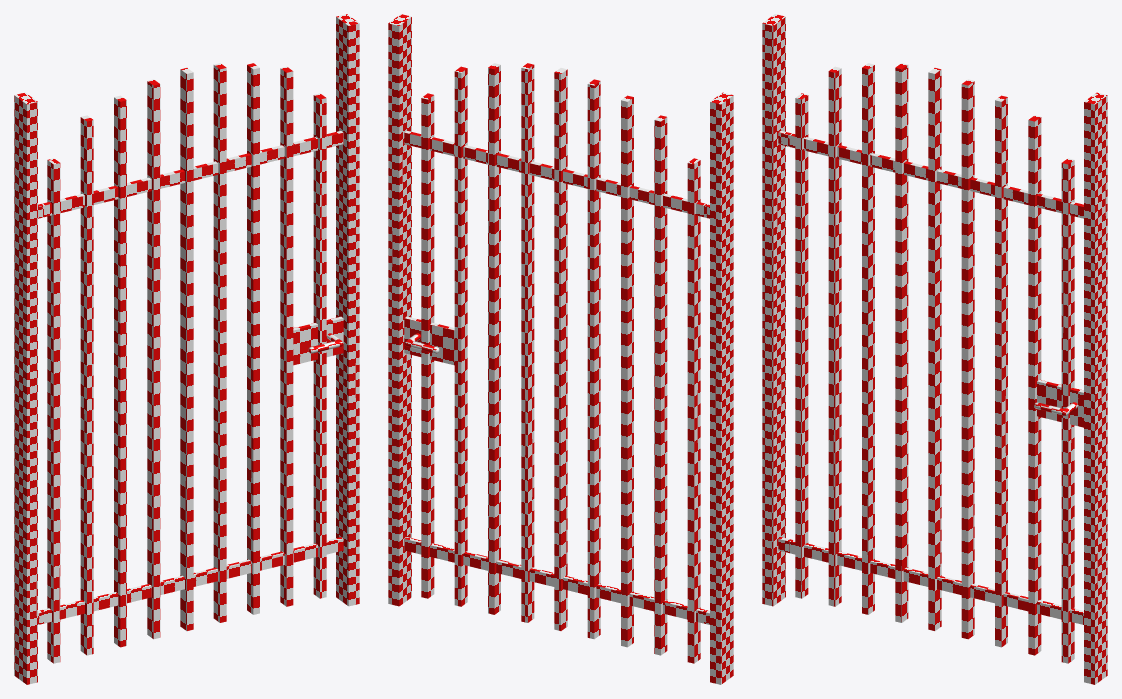
File: door2.dae
The picture shows the model from 3 angles, left to right: view 1: azimuth 30°, elevation 25°; view 2: azimuth 150°, elevation 25°; view 3: azimuth 330°, elevation 25°; orthographic projection.
Parts seen in each view (by area): view 1: door, frame; view 2: door, frame; view 3: door, frame.
Boxes of the visible parts, x1,y1,x2,y2 form: door: [42, 63, 343, 663]; frame: [14, 14, 359, 684]; door: [404, 63, 705, 663]; frame: [388, 14, 733, 684]; door: [789, 63, 1083, 663]; frame: [762, 14, 1107, 684].
Size of the model in its own units: 3 by 0.4 by 5.
Materials: 1 (1 with a texture image).
